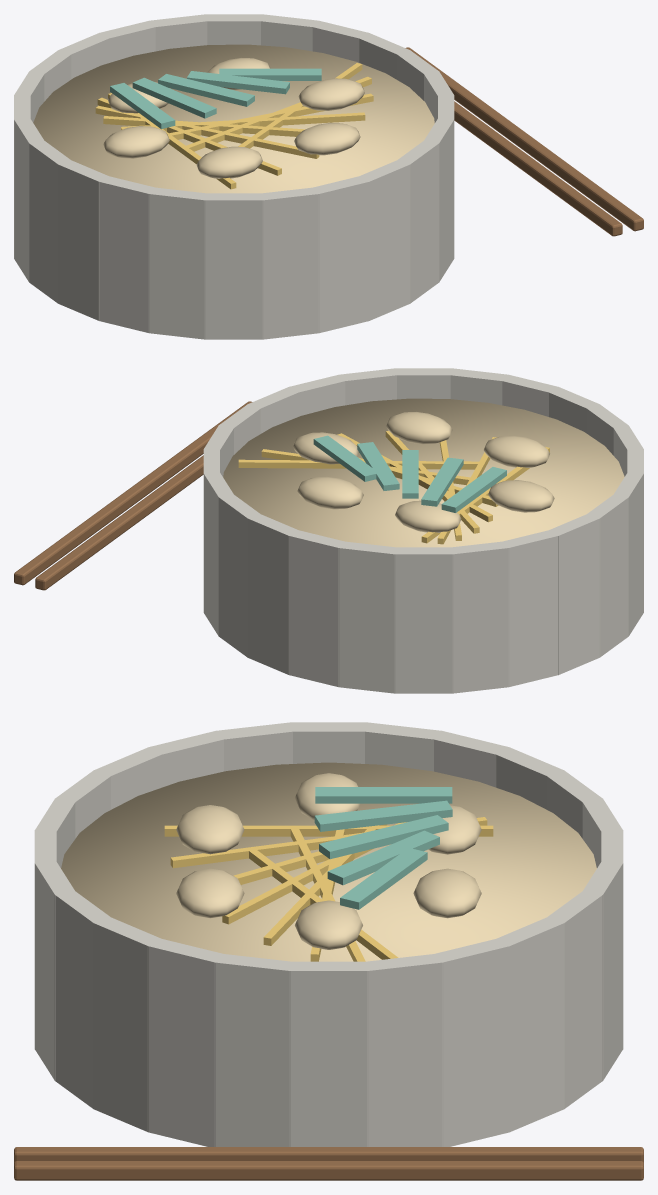
The model's file is YubuGlassNoodle_blockout.glb.
3 renders of one model, top to bottom at view 1: azimuth 30°, elevation 25°; view 2: azimuth 150°, elevation 25°; view 3: azimuth 270°, elevation 25°, orthographic. The views are drawn at different scales.
Parts seen in each view (by area): view 1: FOOD03_YubuGlassNoodle_Broth_L0, FOOD03_YubuGlassNoodle_BowlRim16_L0, FOOD03_YubuGlassNoodle_BowlRim17_L0, FOOD03_YubuGlassNoodle_BowlRim15_L0, FOOD03_YubuGlassNoodle_BowlRim18_L0, FOOD03_YubuGlassNoodle_BowlRim14_L0, FOOD03_YubuGlassNoodle_BowlRim13_L0, FOOD03_YubuGlassNoodle_BowlRim19_L0, FOOD03_YubuGlassNoodle_BowlRim20_L0, FOOD03_YubuGlassNoodle_BowlRim12_L0, FOOD03_YubuGlassNoodle_Chopstick1_L0, FOOD03_YubuGlassNoodle_Chopstick0_L0 (+34 smaller); view 2: FOOD03_YubuGlassNoodle_Broth_L0, FOOD03_YubuGlassNoodle_BowlRim8_L0, FOOD03_YubuGlassNoodle_BowlRim7_L0, FOOD03_YubuGlassNoodle_BowlRim9_L0, FOOD03_YubuGlassNoodle_BowlRim10_L0, FOOD03_YubuGlassNoodle_BowlRim6_L0, FOOD03_YubuGlassNoodle_BowlRim11_L0, FOOD03_YubuGlassNoodle_BowlRim5_L0, FOOD03_YubuGlassNoodle_BowlRim12_L0, FOOD03_YubuGlassNoodle_BowlRim4_L0, FOOD03_YubuGlassNoodle_Chopstick1_L0, FOOD03_YubuGlassNoodle_Chopstick0_L0 (+31 smaller); view 3: FOOD03_YubuGlassNoodle_Broth_L0, FOOD03_YubuGlassNoodle_BowlRim0_L0, FOOD03_YubuGlassNoodle_BowlRim1_L0, FOOD03_YubuGlassNoodle_BowlRim23_L0, FOOD03_YubuGlassNoodle_BowlRim2_L0, FOOD03_YubuGlassNoodle_BowlRim22_L0, FOOD03_YubuGlassNoodle_Chopstick1_L0, FOOD03_YubuGlassNoodle_BowlRim21_L0, FOOD03_YubuGlassNoodle_BowlRim3_L0, FOOD03_YubuGlassNoodle_Chopstick0_L0, FOOD03_YubuGlassNoodle_BowlRim4_L0, FOOD03_YubuGlassNoodle_BowlRim20_L0 (+33 smaller).
Boxes of the visible parts, x1=… form: FOOD03_YubuGlassNoodle_Broth_L0: x1=33, y1=44, x2=434, y2=193; FOOD03_YubuGlassNoodle_BowlRim16_L0: x1=204, y1=193, x2=263, y2=339; FOOD03_YubuGlassNoodle_BowlRim17_L0: x1=258, y1=187, x2=319, y2=339; FOOD03_YubuGlassNoodle_BowlRim15_L0: x1=148, y1=187, x2=209, y2=339; FOOD03_YubuGlassNoodle_BowlRim18_L0: x1=311, y1=175, x2=369, y2=332; FOOD03_YubuGlassNoodle_BowlRim14_L0: x1=98, y1=176, x2=157, y2=332; FOOD03_YubuGlassNoodle_BowlRim13_L0: x1=57, y1=160, x2=110, y2=320; FOOD03_YubuGlassNoodle_BowlRim19_L0: x1=358, y1=160, x2=410, y2=320; FOOD03_YubuGlassNoodle_BowlRim20_L0: x1=396, y1=139, x2=439, y2=303; FOOD03_YubuGlassNoodle_BowlRim12_L0: x1=29, y1=139, x2=72, y2=303; FOOD03_YubuGlassNoodle_Chopstick1_L0: x1=405, y1=47, x2=643, y2=231; FOOD03_YubuGlassNoodle_Chopstick0_L0: x1=454, y1=101, x2=622, y2=236; FOOD03_YubuGlassNoodle_Broth_L0: x1=223, y1=398, x2=624, y2=547; FOOD03_YubuGlassNoodle_BowlRim8_L0: x1=394, y1=547, x2=453, y2=693; FOOD03_YubuGlassNoodle_BowlRim7_L0: x1=338, y1=541, x2=398, y2=693; FOOD03_YubuGlassNoodle_BowlRim9_L0: x1=451, y1=541, x2=509, y2=693; FOOD03_YubuGlassNoodle_BowlRim10_L0: x1=500, y1=530, x2=559, y2=686; FOOD03_YubuGlassNoodle_BowlRim6_L0: x1=288, y1=530, x2=346, y2=686; FOOD03_YubuGlassNoodle_BowlRim11_L0: x1=547, y1=514, x2=600, y2=674; FOOD03_YubuGlassNoodle_BowlRim5_L0: x1=247, y1=515, x2=299, y2=674; FOOD03_YubuGlassNoodle_BowlRim12_L0: x1=586, y1=493, x2=628, y2=657; FOOD03_YubuGlassNoodle_BowlRim4_L0: x1=218, y1=493, x2=261, y2=657; FOOD03_YubuGlassNoodle_Chopstick1_L0: x1=14, y1=401, x2=252, y2=585; FOOD03_YubuGlassNoodle_Chopstick0_L0: x1=35, y1=455, x2=203, y2=590; FOOD03_YubuGlassNoodle_Broth_L0: x1=61, y1=762, x2=596, y2=961; FOOD03_YubuGlassNoodle_BowlRim0_L0: x1=289, y1=961, x2=368, y2=1146; FOOD03_YubuGlassNoodle_BowlRim1_L0: x1=363, y1=953, x2=443, y2=1146; FOOD03_YubuGlassNoodle_BowlRim23_L0: x1=214, y1=953, x2=296, y2=1146; FOOD03_YubuGlassNoodle_BowlRim2_L0: x1=432, y1=938, x2=510, y2=1146; FOOD03_YubuGlassNoodle_BowlRim22_L0: x1=147, y1=939, x2=225, y2=1146; FOOD03_YubuGlassNoodle_Chopstick1_L0: x1=14, y1=1161, x2=643, y2=1180; FOOD03_YubuGlassNoodle_BowlRim21_L0: x1=93, y1=916, x2=163, y2=1132; FOOD03_YubuGlassNoodle_BowlRim3_L0: x1=495, y1=916, x2=564, y2=1132; FOOD03_YubuGlassNoodle_Chopstick0_L0: x1=14, y1=1147, x2=643, y2=1162; FOOD03_YubuGlassNoodle_BowlRim4_L0: x1=548, y1=890, x2=603, y2=1108; FOOD03_YubuGlassNoodle_BowlRim20_L0: x1=54, y1=891, x2=111, y2=1108.
Size of the model in its own units: 0.2725 by 0.0785 by 0.23.
